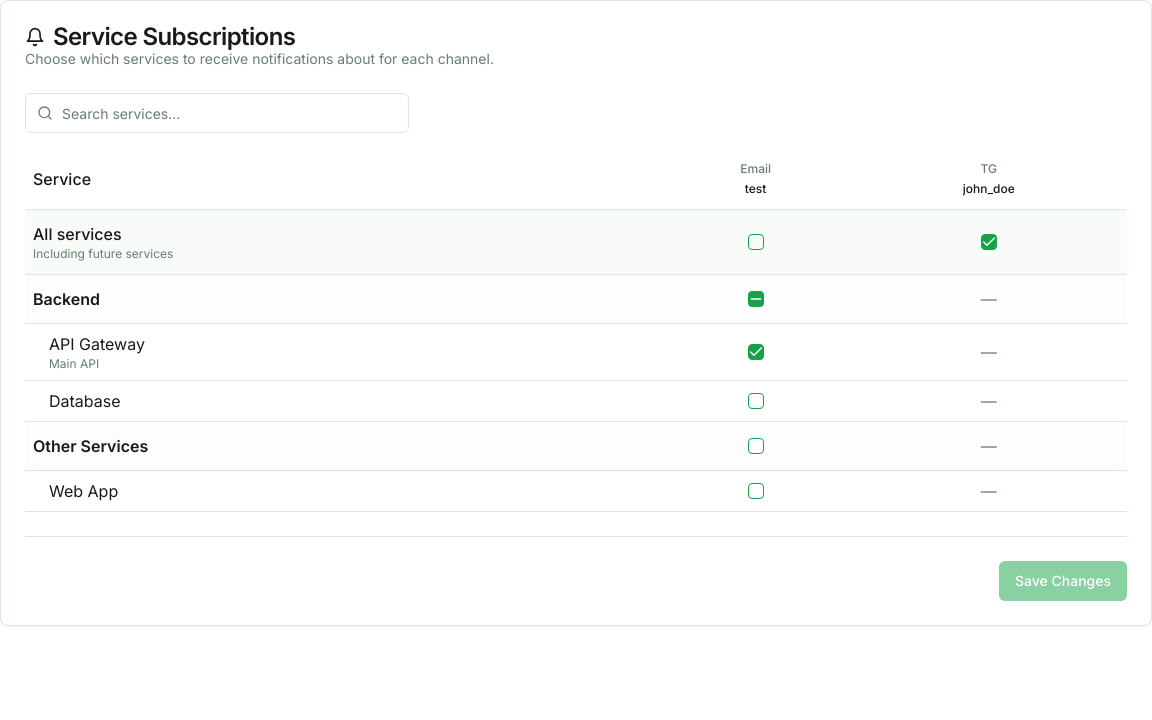
it: SubscriptionEditor › Save › enables save button when changes are made
The width and height of the screenshot is (1152, 720).
Check: the text "All services" is shown, box x1=33 y1=224 x2=122 y2=244
# Make a change
Click the checkbox in the row of "Database" at (756, 401), box x1=748 y1=393 x2=764 y2=409
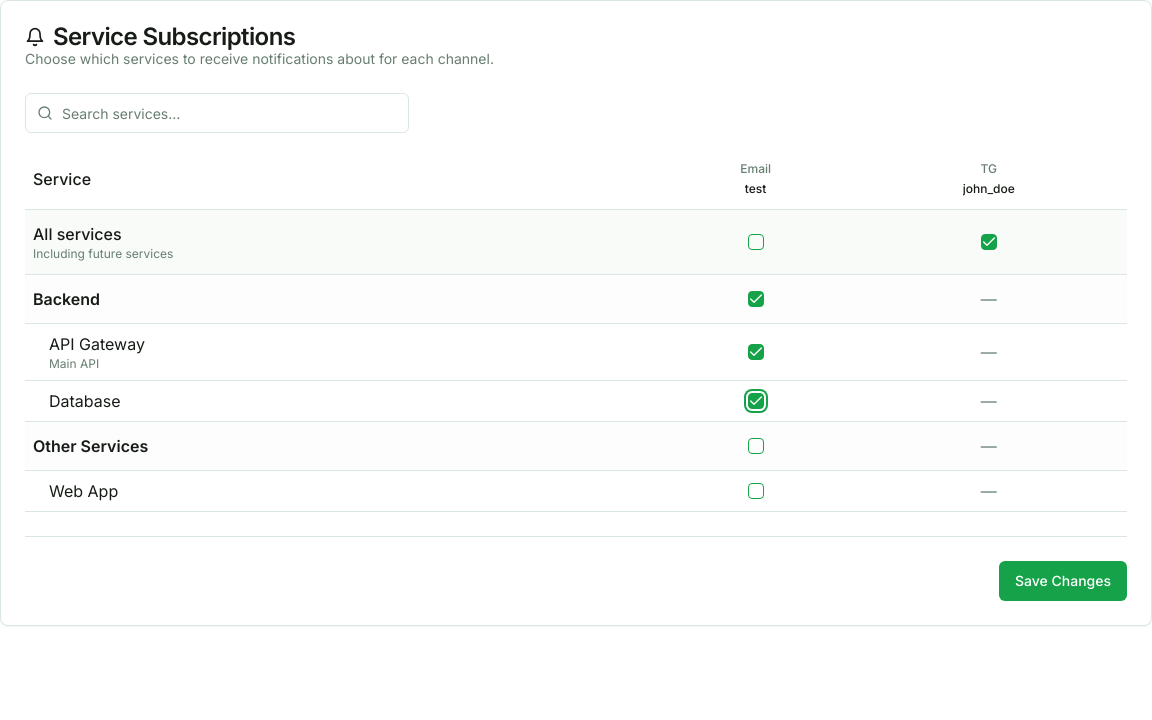
Check: the button "Save Changes" is enabled, box x1=999 y1=561 x2=1127 y2=601
